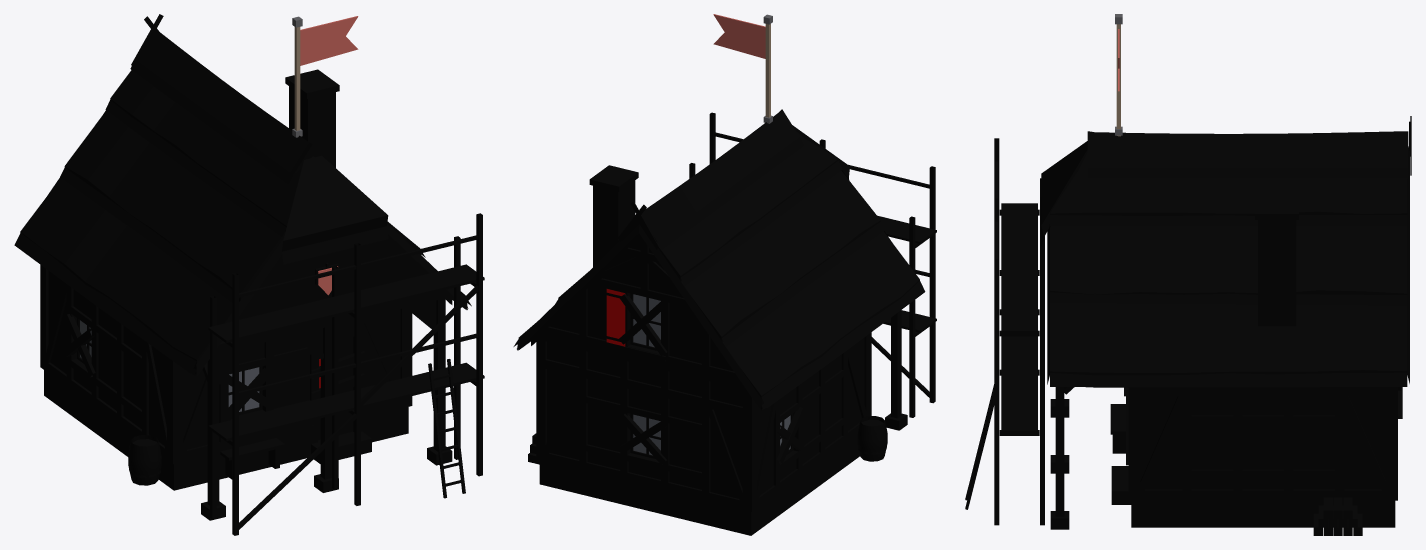
Rendered from wohnhaus_mensch_s1_g4.glb.
The picture shows the model from 3 angles, left to right: view 1: azimuth 30°, elevation 25°; view 2: azimuth 150°, elevation 25°; view 3: azimuth 270°, elevation 25°; orthographic projection. The views are drawn at different scales.
Parts seen in each view (by area): view 1: Dach, Haus, Geruest, Fahne, Leerstand, Scheiben; view 2: Haus, Dach, Geruest, Leerstand, Fahne, Scheiben; view 3: Dach, Haus, Geruest, Fahne.
Part boxes in pixels (left/top/right/bottom): Dach: left=14, top=14, right=471, bottom=375; Haus: left=40, top=69, right=452, bottom=520; Geruest: left=208, top=213, right=484, bottom=535; Fahne: left=292, top=16, right=358, bottom=137; Leerstand: left=63, top=314, right=365, bottom=425; Scheiben: left=80, top=320, right=259, bottom=411; Haus: left=528, top=165, right=907, bottom=535; Dach: left=513, top=109, right=925, bottom=409; Geruest: left=689, top=112, right=936, bottom=417; Leerstand: left=619, top=294, right=805, bottom=464; Fahne: left=713, top=14, right=772, bottom=123; Scheiben: left=633, top=294, right=790, bottom=455; Dach: left=1040, top=116, right=1411, bottom=387; Haus: left=1050, top=198, right=1397, bottom=535; Geruest: left=965, top=138, right=1044, bottom=525; Fahne: left=1115, top=14, right=1122, bottom=136.
Bounding box in the file's own units: 6.29 × 9.12 × 8.12.
